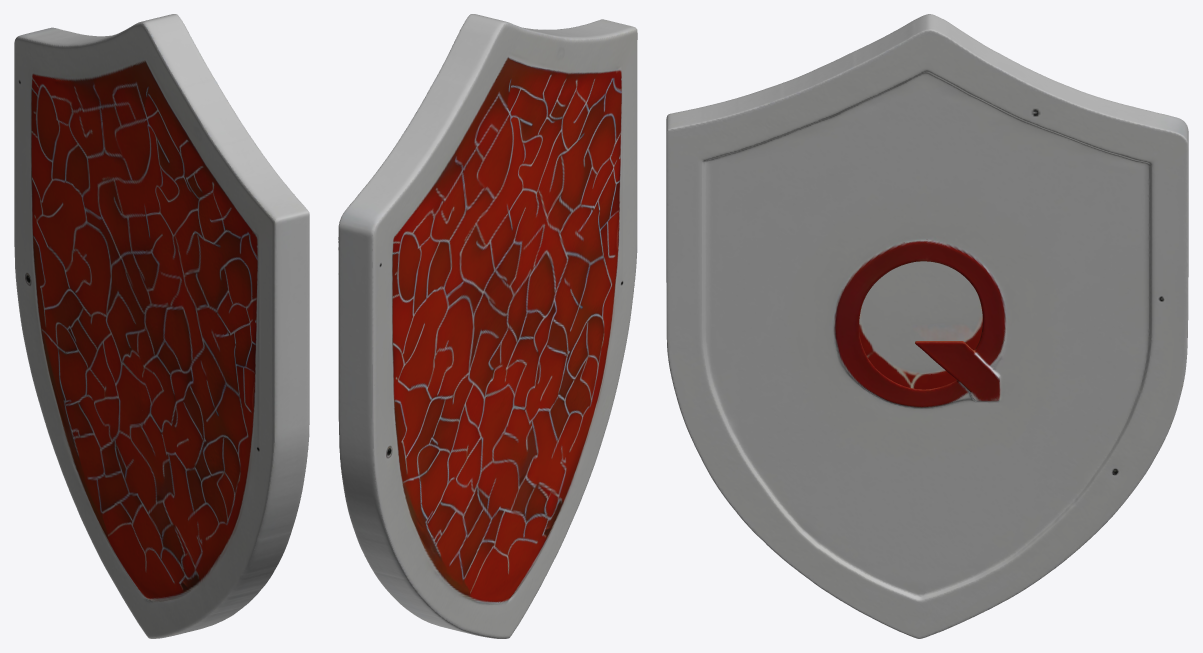
File: shield.glb
The picture shows the model from 3 angles, left to right: view 1: azimuth 30°, elevation 25°; view 2: azimuth 150°, elevation 25°; view 3: azimuth 270°, elevation 25°; orthographic projection.
Visible parts, largest first — view 1: tripo_node_b2828eda-759c-4dc7-b419-191ca59a064b; view 2: tripo_node_b2828eda-759c-4dc7-b419-191ca59a064b; view 3: tripo_node_b2828eda-759c-4dc7-b419-191ca59a064b.
Part boxes in pixels (x1,y1,x2,y2): tripo_node_b2828eda-759c-4dc7-b419-191ca59a064b: (14,14,309,638); tripo_node_b2828eda-759c-4dc7-b419-191ca59a064b: (338,14,637,638); tripo_node_b2828eda-759c-4dc7-b419-191ca59a064b: (666,14,1188,638).
Bounding box in the file's own units: 0.0612 × 1 × 0.7762.
Materials: 1 (1 with a texture image).
